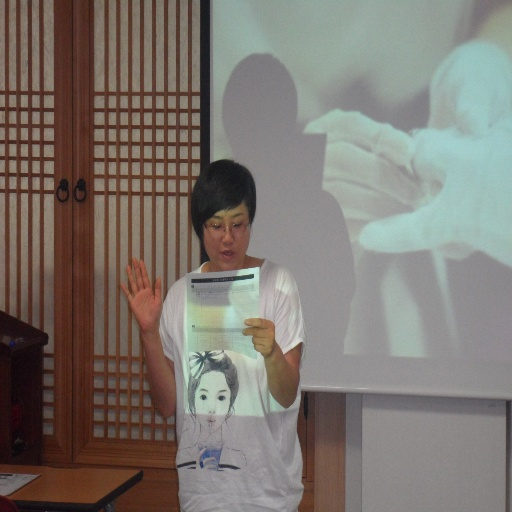hand: (362, 123, 511, 256), (303, 104, 428, 247), (424, 45, 511, 138), (116, 253, 152, 329), (240, 317, 276, 360)
